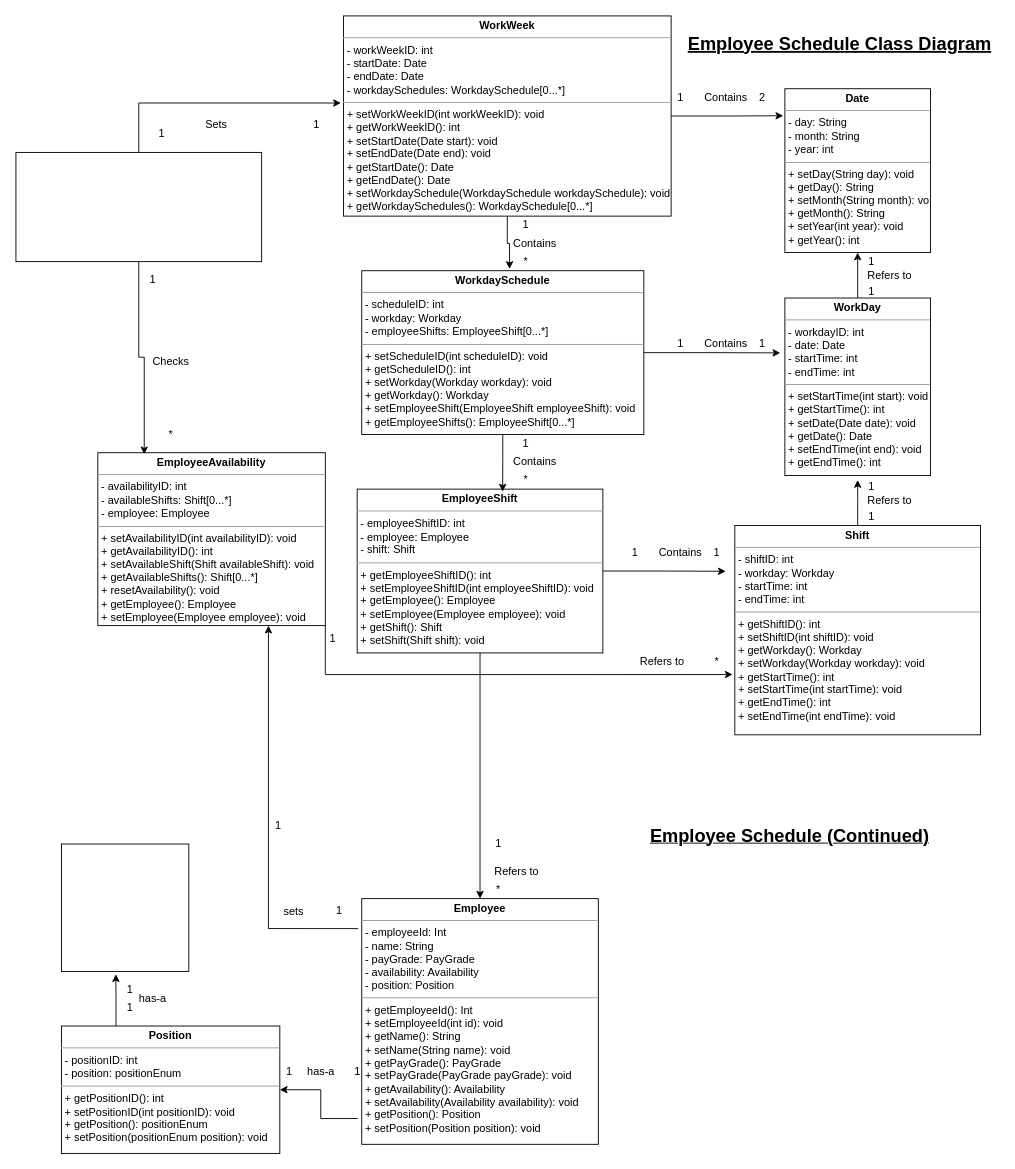
Some shapes in this 1015 by 1169 pixel diagram are drawn without their labels. Each missing label, with the box of its shape:
<<enumeration>> positionEnum Manager Supervisor Chef Waiter/ Waitress Bartender: (61, 843, 189, 971)
Manager - managerID: int - name: String + createWorkWeek(): WorkWeek: (15, 152, 262, 262)
